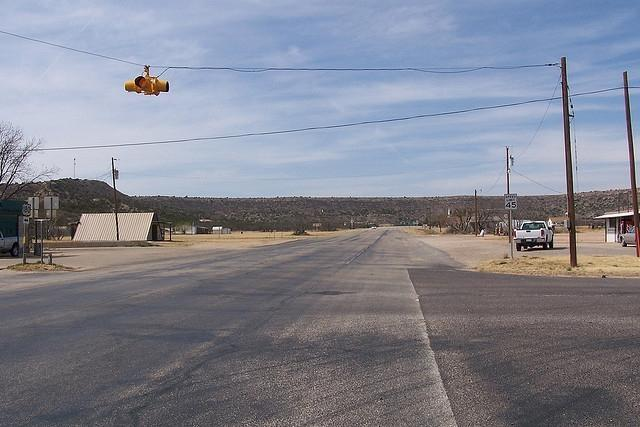car: (0, 227, 19, 256), (618, 230, 636, 247), (371, 225, 378, 231)
truck: (513, 219, 554, 250), (0, 232, 19, 256)
